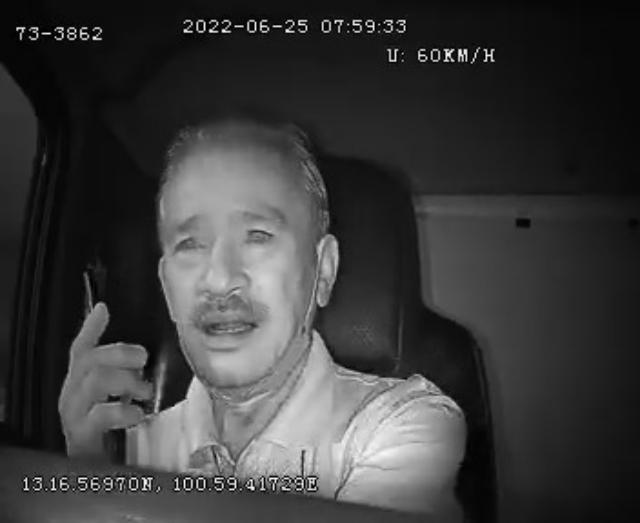PhoneUse: (72, 270, 132, 470)
SafeDriving: (167, 220, 214, 265), (237, 212, 282, 250)
